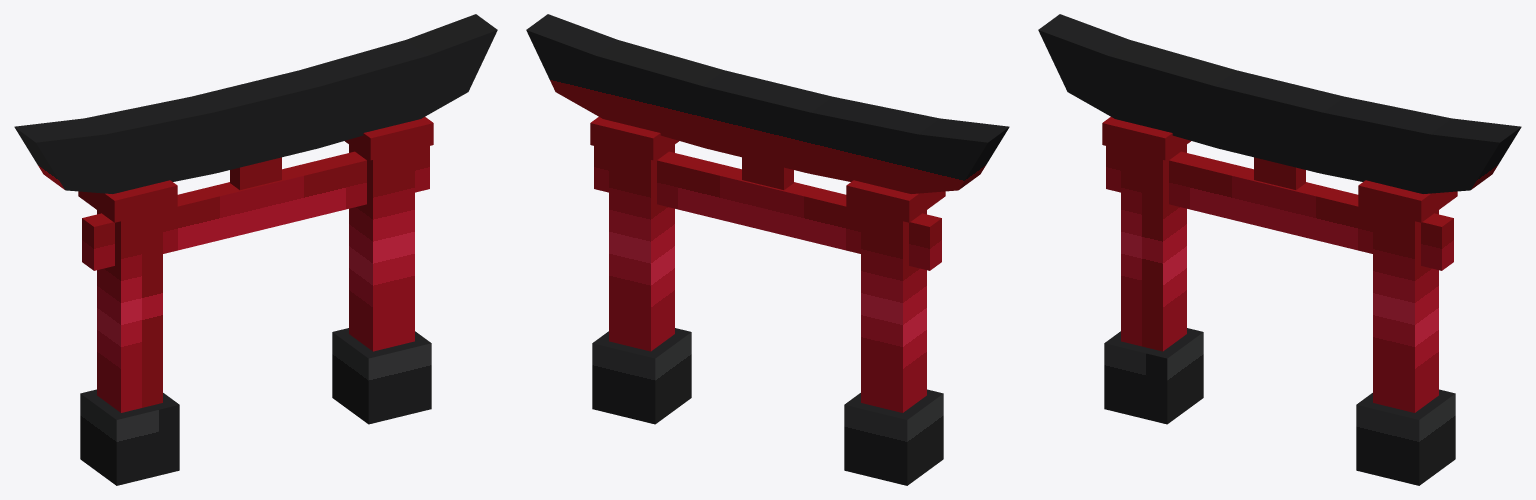
Rendered from Torii.fbx.
3 views of the same model, side by side, from view 1: azimuth 30°, elevation 25°; view 2: azimuth 150°, elevation 25°; view 3: azimuth 330°, elevation 25° (orthographic).
Parts seen in each view (by area): view 1: cube, cube_3, cube_4, cube_5, cube_1, cube_2, cube_7, cube_6, cube_8; view 2: cube, cube_3, cube_4, cube_5, cube_1, cube_2, cube_7, cube_6, cube_8; view 3: cube, cube_3, cube_5, cube_4, cube_2, cube_1, cube_6, cube_7, cube_8.
Boxes of the visible parts, x1=… form: cube: x1=14, y1=14, x2=497, y2=193; cube_3: x1=82, y1=146, x2=429, y2=270; cube_4: x1=349, y1=144, x2=414, y2=351; cube_5: x1=97, y1=210, x2=162, y2=412; cube_1: x1=332, y1=328, x2=431, y2=424; cube_2: x1=80, y1=389, x2=179, y2=485; cube_7: x1=78, y1=180, x2=177, y2=222; cube_6: x1=345, y1=117, x2=433, y2=160; cube_8: x1=230, y1=157, x2=281, y2=189; cube: x1=526, y1=14, x2=1009, y2=193; cube_3: x1=594, y1=146, x2=941, y2=270; cube_4: x1=609, y1=144, x2=674, y2=351; cube_5: x1=861, y1=210, x2=926, y2=412; cube_1: x1=592, y1=328, x2=691, y2=424; cube_2: x1=844, y1=389, x2=943, y2=485; cube_7: x1=846, y1=180, x2=945, y2=222; cube_6: x1=590, y1=117, x2=678, y2=160; cube_8: x1=742, y1=157, x2=793, y2=189; cube: x1=1038, y1=14, x2=1521, y2=193; cube_3: x1=1106, y1=146, x2=1453, y2=270; cube_5: x1=1121, y1=144, x2=1186, y2=351; cube_4: x1=1373, y1=210, x2=1438, y2=412; cube_2: x1=1104, y1=328, x2=1203, y2=424; cube_1: x1=1356, y1=389, x2=1455, y2=485; cube_6: x1=1358, y1=180, x2=1457, y2=222; cube_7: x1=1102, y1=117, x2=1190, y2=160; cube_8: x1=1254, y1=157, x2=1305, y2=189.
Bounding box in the file's own units: 138 × 101 × 18.75.
Materials: 1 (1 with a texture image).
